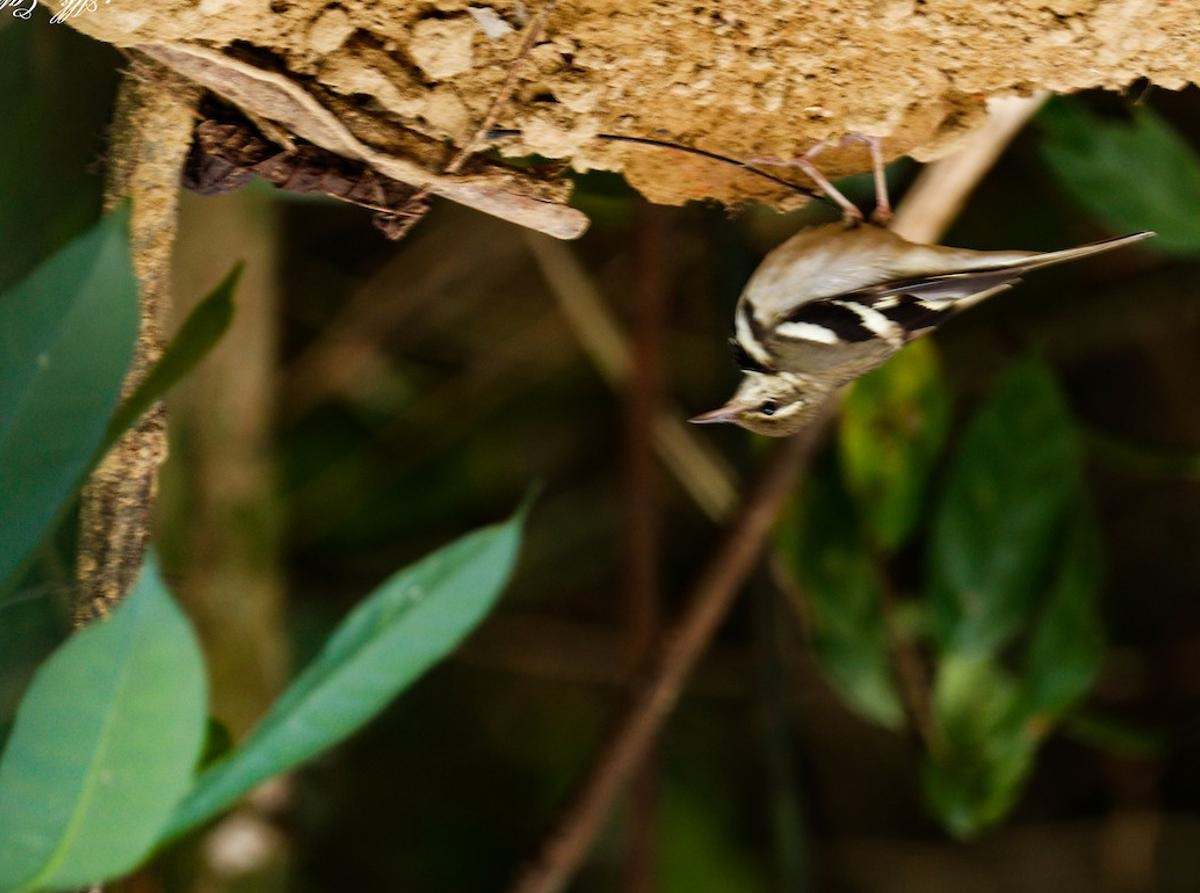wagtail: (649, 186, 1105, 470)
